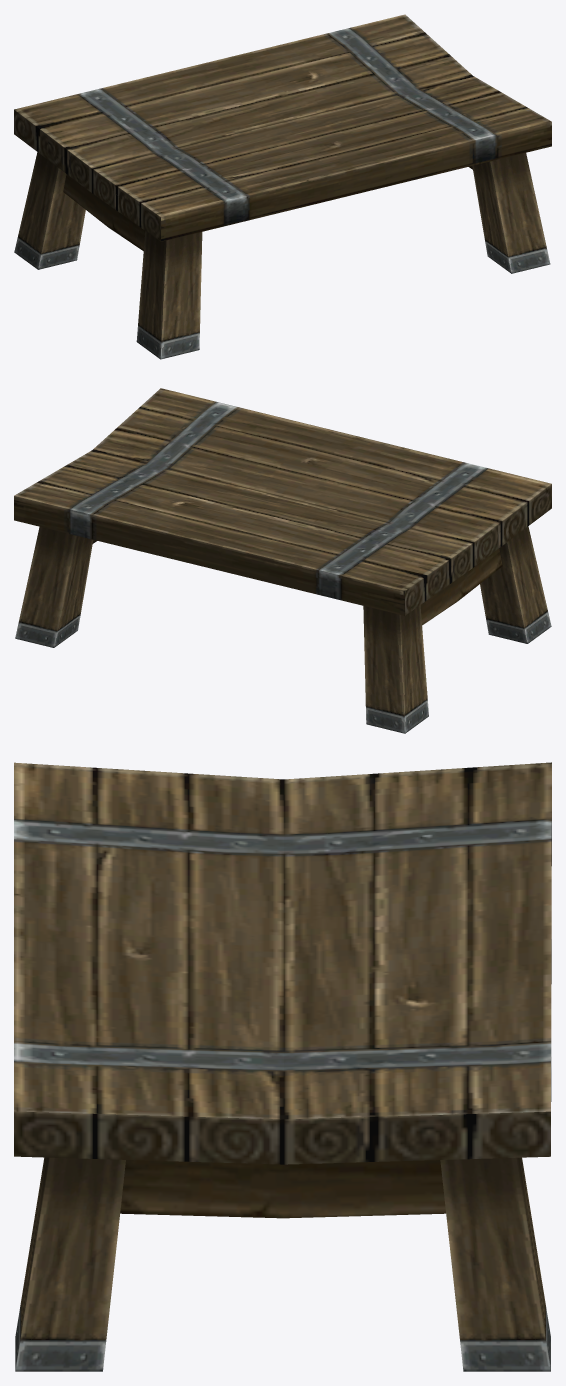
The model's file is table.fbx.
3 renders of one model, top to bottom at view 1: azimuth 30°, elevation 25°; view 2: azimuth 150°, elevation 25°; view 3: azimuth 270°, elevation 25°, orthographic. The views are drawn at different scales.
Visible parts, largest first — view 1: obj0.005; view 2: obj0.005; view 3: obj0.005.
Boxes of the visible parts, x1=… form: obj0.005: x1=14, y1=14, x2=551, y2=359; obj0.005: x1=14, y1=388, x2=551, y2=733; obj0.005: x1=14, y1=762, x2=551, y2=1371.
Bounding box in the file's own units: 3.08 × 1.08 × 2.01.
